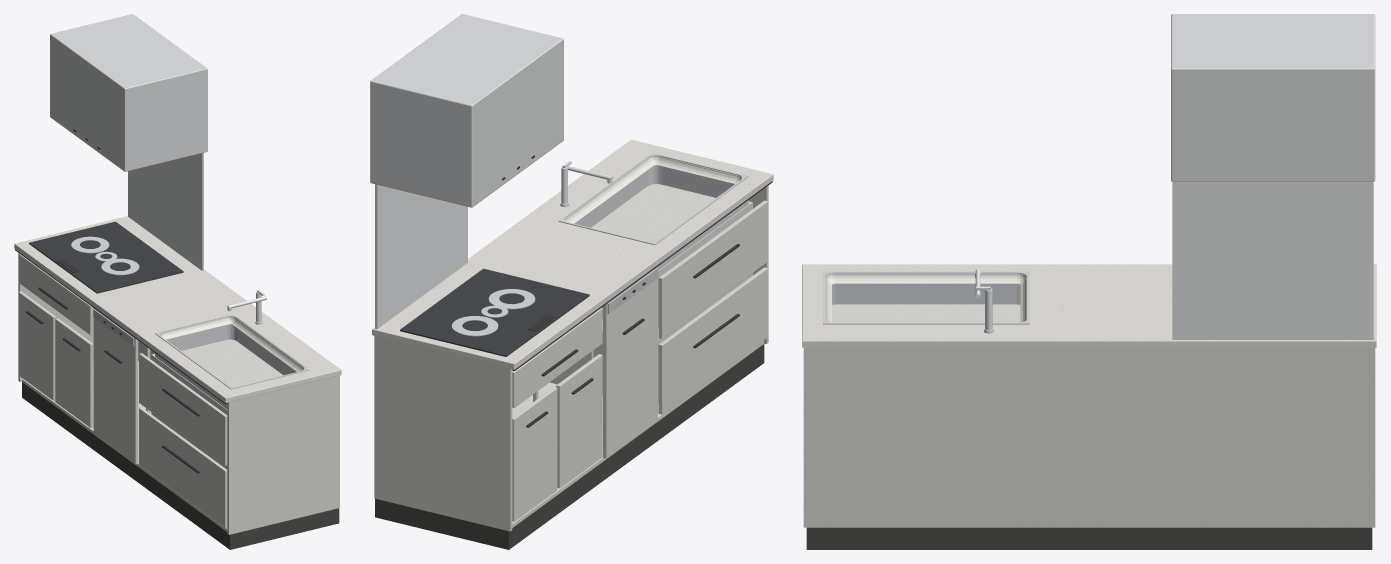
File: kitchen-noct.glb
3 views of the same model, side by side, from view 1: azimuth 30°, elevation 25°; view 2: azimuth 150°, elevation 25°; view 3: azimuth 270°, elevation 25° (orthographic). The views are drawn at different scales.
Visible parts, largest first — view 1: Hero_KitchenHood, Worktop, End_N, Backsplash, Hero_KitchenDW, Drawer_Sink_0_front, Toe, Hero_KitchenIH, Drawer_Sink_1_front, IH_door_N, IH_door_S, Drawer_Sink_1_box (+5 smaller); view 2: Hero_KitchenHood, Worktop, End_S, Backsplash, Hero_KitchenDW, Drawer_Sink_0_front, Toe, Hero_KitchenIH, Drawer_Sink_1_front, IH_door_N, IH_door_S, Drawer_Sink_1_box (+9 smaller); view 3: Back, Hero_KitchenHood, Backsplash, Worktop, Toe, Hero_KitchenSink, Drawer_Sink_1_box.
Part boxes in pixels (x1,y1,x2,y2): Hero_KitchenHood: [50, 14, 207, 171]; Worktop: [14, 216, 341, 402]; End_N: [227, 376, 338, 534]; Backsplash: [128, 153, 203, 270]; Hero_KitchenDW: [93, 308, 138, 464]; Drawer_Sink_0_front: [139, 407, 227, 527]; Toe: [22, 382, 339, 549]; Hero_KitchenIH: [29, 221, 183, 293]; Drawer_Sink_1_front: [139, 353, 227, 465]; IH_door_N: [55, 318, 93, 427]; IH_door_S: [18, 291, 56, 400]; Drawer_Sink_1_box: [151, 339, 282, 414]; Hero_KitchenHood: [370, 14, 563, 207]; Worktop: [372, 139, 773, 369]; End_S: [376, 336, 512, 531]; Backsplash: [375, 184, 467, 328]; Hero_KitchenDW: [603, 266, 657, 458]; Drawer_Sink_0_front: [658, 267, 767, 414]; Toe: [375, 344, 764, 549]; Hero_KitchenIH: [400, 268, 589, 356]; Drawer_Sink_1_front: [658, 200, 767, 338]; IH_door_N: [556, 354, 602, 488]; IH_door_S: [512, 387, 557, 521]; Drawer_Sink_1_box: [591, 184, 752, 327]; Back: [803, 347, 1375, 527]; Hero_KitchenHood: [1171, 14, 1375, 181]; Backsplash: [1172, 181, 1373, 339]; Worktop: [802, 264, 1376, 347]; Toe: [806, 527, 1372, 549]; Hero_KitchenSink: [823, 271, 1029, 324]; Drawer_Sink_1_box: [832, 304, 1020, 322].
Size of the model in its own units: 0.682 by 1.96 by 2.11.
Materials: 14 (2 with a texture image).
